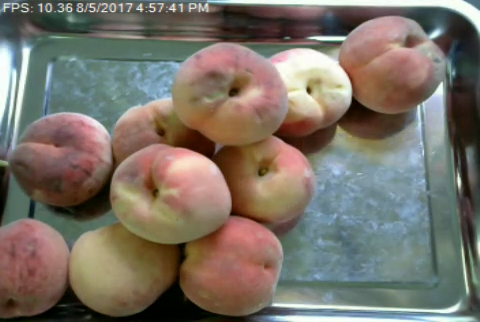Peach: (173, 40, 288, 145), (109, 145, 232, 243), (338, 14, 444, 115), (67, 219, 177, 315), (178, 217, 282, 315), (7, 111, 114, 206), (213, 134, 312, 226), (264, 48, 353, 138), (0, 220, 69, 315)
